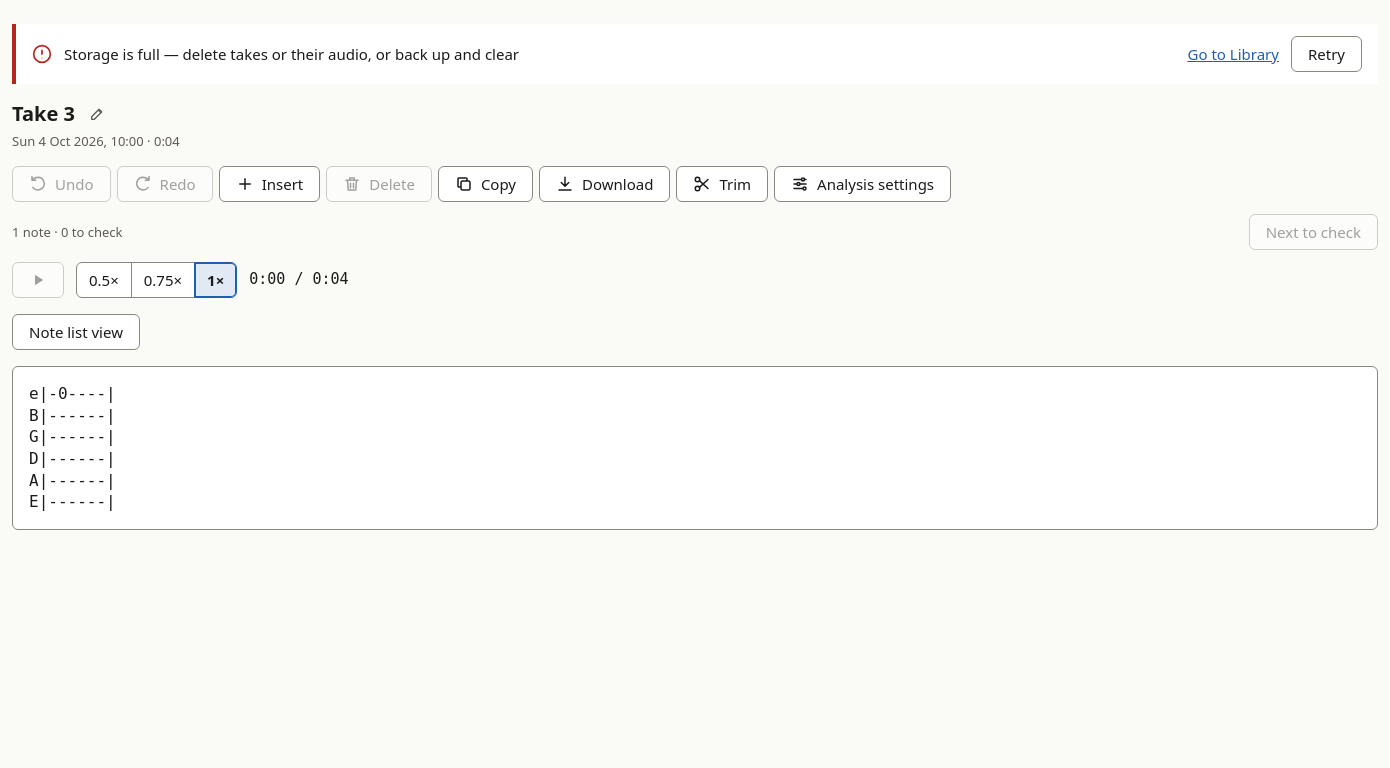
Test: Tab screen analysis states › the edit-save storage-full banner › shows with the tab, announced once, with a Library link and Retry, which saves again
Check: the element with test id "tab-edit-storage-full" shows "Storage is full — delete takes or their audio, or back up and clear", box [64, 44, 519, 64]
Check: the link "Go to Library" is shown, box [1188, 43, 1279, 65]
Click the button "Retry": {"x": 1326, "y": 54} [1291, 36, 1362, 72]
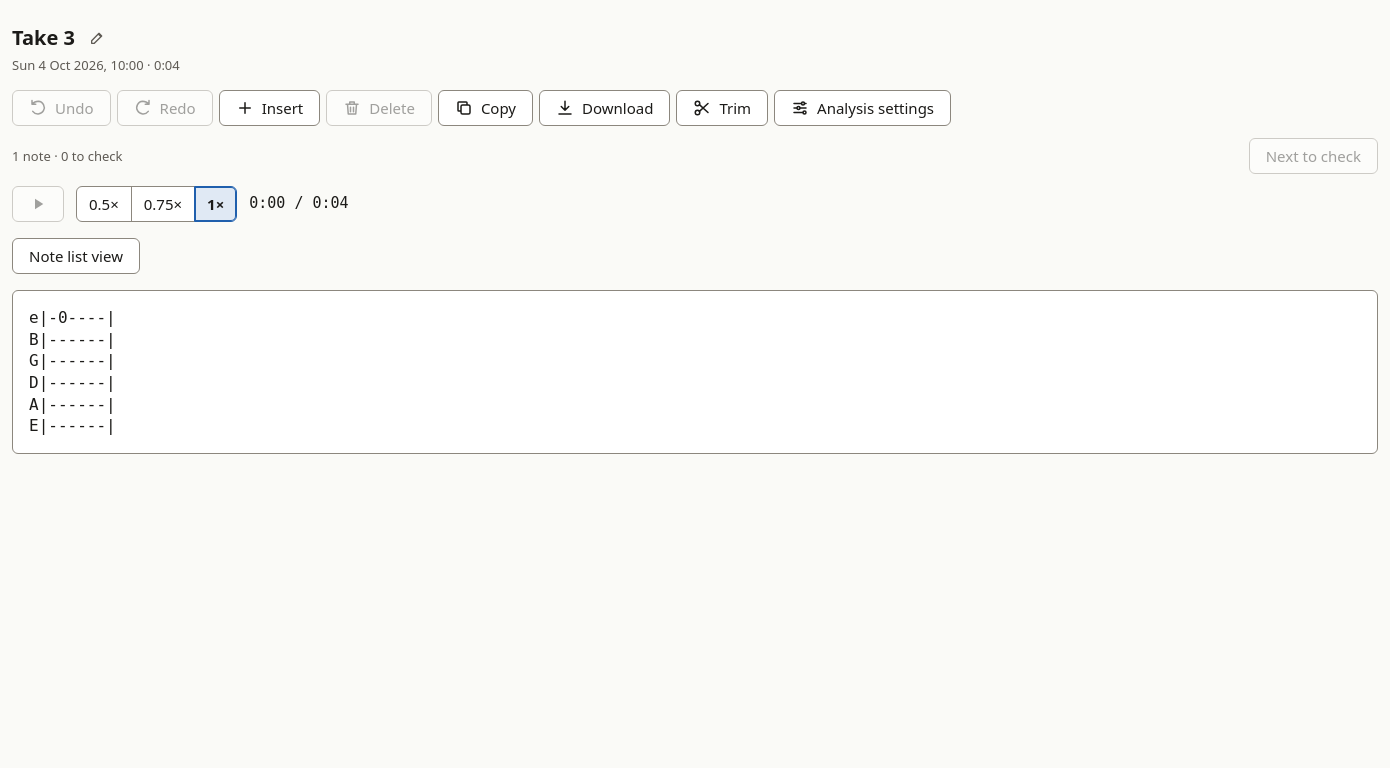
Check: the element with test id "tab-edit-storage-full" is gone
